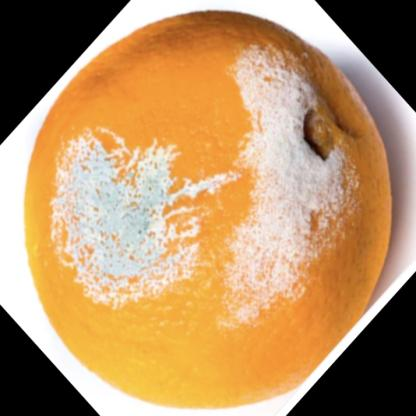rotten: (22, 13, 396, 405)
